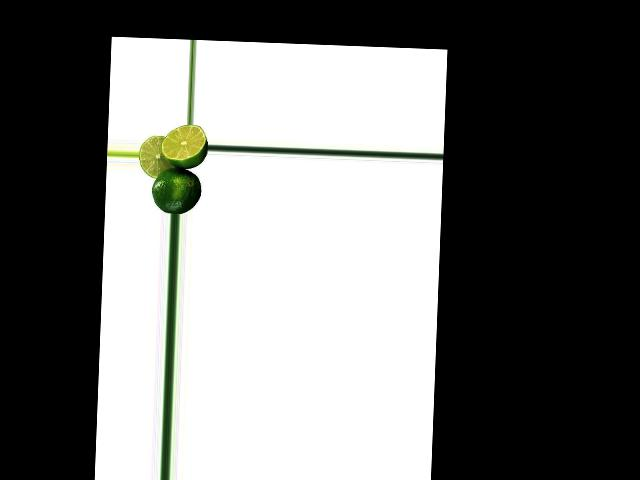lemon: (152, 164, 200, 214)
